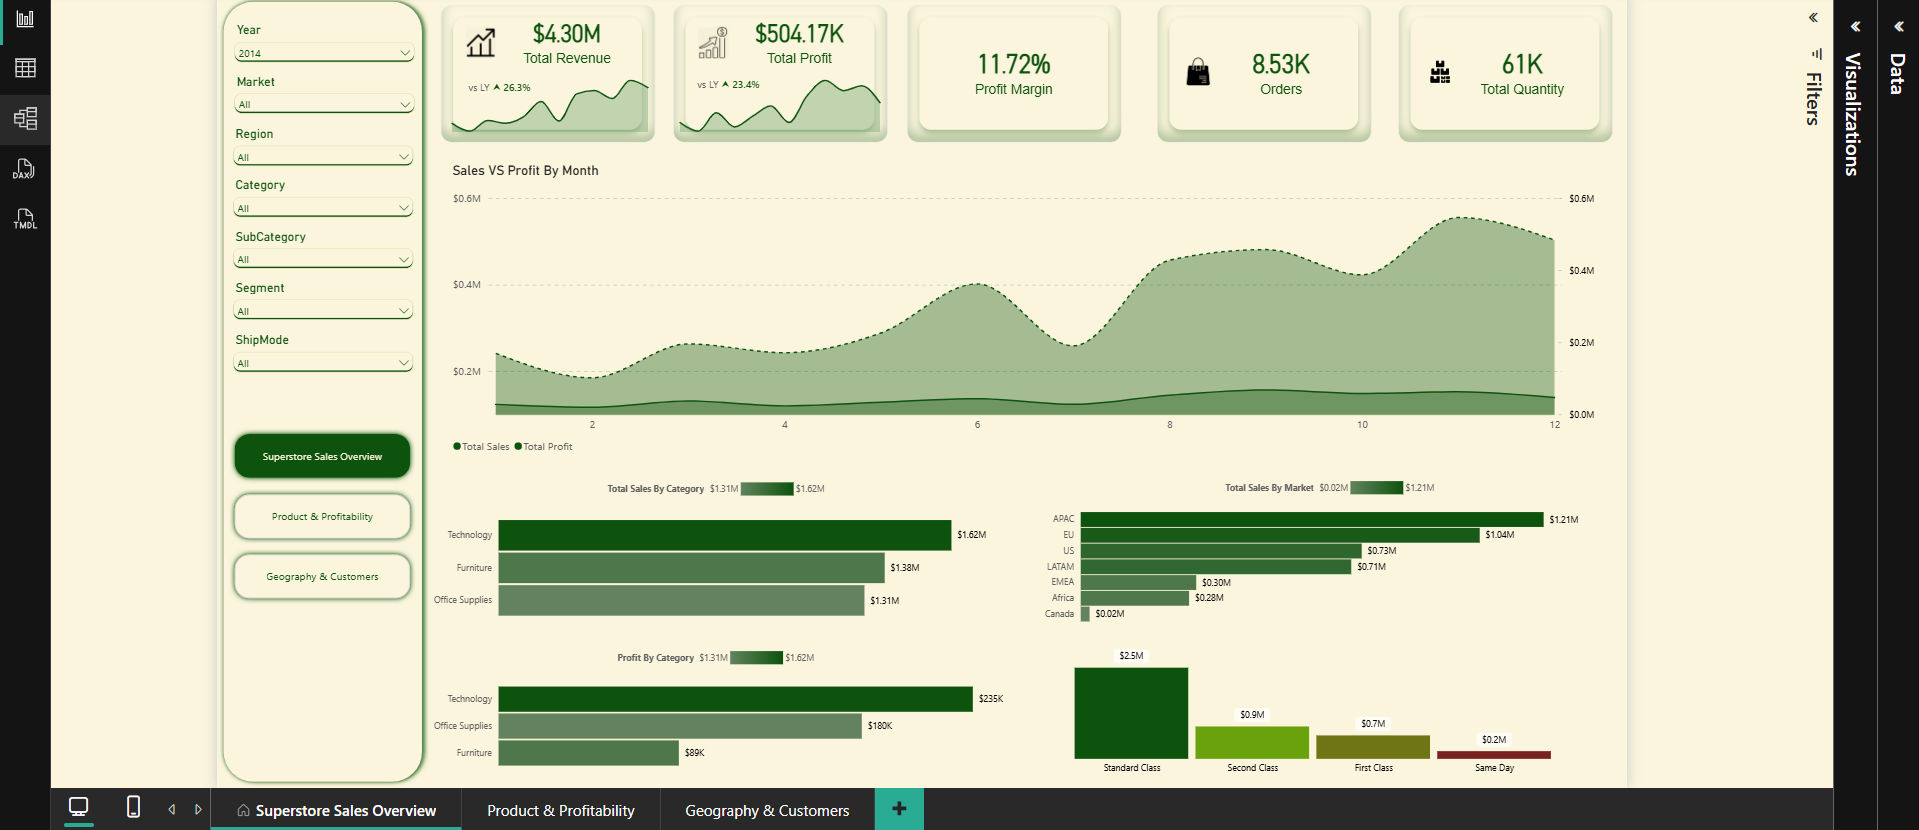

What the dashboard file says about the page in this screenshot:
{"tool":"powerbi","page":{"name":"Superstore Sales Overview","canvas":[1920,1080],"ordinal":0},"visuals":[{"type":"cardVisual","fields":{"Data":["dw FactSales.Total Sales"]},"box":[304.2,14.4,291.8,187.3],"z":0},{"type":"lineChart","fields":{"Y":["dw FactSales.Total Sales"],"Category":["dw DimDate.Month"]},"box":[270,108,325.8,79.2],"z":1000},{"type":"cardVisual","fields":{"Data":["dw FactSales.Total Profit"]},"box":[620.9,14.4,291.8,187.3],"z":2000},{"type":"lineChart","fields":{"Y":["dw FactSales.Total Profit"],"Category":["dw DimDate.Month"]},"box":[595.7,108,316.8,79.2],"z":3000},{"type":"cardVisual","fields":{"Data":["dw FactSales.Profit Margin %"]},"box":[939.5,14.4,291.8,187.3],"z":4000},{"type":"cardVisual","fields":{"Data":["dw FactSales.Orders"]},"box":[1279.6,14.4,291.8,187.3],"z":5000},{"type":"cardVisual","fields":{"Data":["dw FactSales.Total Quantity"]},"box":[1607.2,14.4,291.8,187.3],"z":6000},{"type":"lineChart","title":" Sales VS Profit By Month","fields":{"Category":["dw DimDate.Month"],"Y":["dw FactSales.Total Sales"],"Y2":["dw FactSales.Total Profit"]},"box":[304.2,214.2,1591,430.1],"z":7000},{"type":"barChart","fields":{"Y":["dw FactSales.Total Sales"],"Category":["dw DimGeography.Market"]},"box":[1106.9,644.3,813.5,232.2],"z":8000},{"type":"shape","box":[0,0,288,1079.9],"z":9000},{"type":"slicer","fields":{"Values":["dw DimDate.Year"]},"box":[18,37.8,255.6,70.2],"z":10000},{"type":"slicer","fields":{"Values":["dw DimGeography.Market"]},"box":[18,108,255.6,70.2],"z":11000},{"type":"slicer","fields":{"Values":["dw DimGeography.Region"]},"box":[16.2,178.2,255.6,70.2],"z":12000},{"type":"slicer","fields":{"Values":["dw DimProduct.Category"]},"box":[16.2,248.4,255.6,70.2],"z":13000},{"type":"slicer","fields":{"Values":["dw DimProduct.SubCategory"]},"box":[16.2,318.6,255.6,70.2],"z":14000},{"type":"slicer","fields":{"Values":["dw DimCustomer.Segment"]},"box":[16.2,388.8,255.6,70.2],"z":15000},{"type":"slicer","fields":{"Values":["dw DimShipping.ShipMode"]},"box":[16.2,458.9,255.6,66.6],"z":16000},{"type":"barChart","fields":{"Category":["dw DimProduct.Category"],"Y":["dw FactSales.Total Profit"]},"box":[271.8,876.5,813.5,203.4],"z":17000},{"type":"barChart","fields":{"Y":["dw FactSales.Total Sales"],"Category":["dw DimProduct.Category"]},"box":[271.8,646.1,813.5,232.2],"z":18000},{"type":"lineStackedColumnComboChart","fields":{"Category":["dw DimShipping.ShipMode"],"Y":["dw FactSales.Total Sales"]},"box":[1085.3,863.9,813.5,216],"z":19000},{"type":"pageNavigator","box":[17,590.4,253.5,238.2],"z":20000}]}

Visuals, with their boxes on the page's 1920x1080 design canvas (x1, y1, x2, y2). These are canvas units, not pixel positions in the 1919x830 screenshot, which may show the page scaled, cropped or inside an application window:
cardVisual - dw FactSales.Total Sales: pyautogui.locateOnScreen(304, 14, 596, 202)
lineChart - dw FactSales.Total Sales x dw DimDate.Month: pyautogui.locateOnScreen(270, 108, 596, 187)
cardVisual - dw FactSales.Total Profit: pyautogui.locateOnScreen(621, 14, 913, 202)
lineChart - dw FactSales.Total Profit x dw DimDate.Month: pyautogui.locateOnScreen(596, 108, 912, 187)
cardVisual - dw FactSales.Profit Margin %: pyautogui.locateOnScreen(940, 14, 1231, 202)
cardVisual - dw FactSales.Orders: pyautogui.locateOnScreen(1280, 14, 1571, 202)
cardVisual - dw FactSales.Total Quantity: pyautogui.locateOnScreen(1607, 14, 1899, 202)
" Sales VS Profit By Month" lineChart: pyautogui.locateOnScreen(304, 214, 1895, 644)
barChart - dw FactSales.Total Sales x dw DimGeography.Market: pyautogui.locateOnScreen(1107, 644, 1920, 876)
shape: pyautogui.locateOnScreen(0, 0, 288, 1080)
slicer - dw DimDate.Year: pyautogui.locateOnScreen(18, 38, 274, 108)
slicer - dw DimGeography.Market: pyautogui.locateOnScreen(18, 108, 274, 178)
slicer - dw DimGeography.Region: pyautogui.locateOnScreen(16, 178, 272, 248)
slicer - dw DimProduct.Category: pyautogui.locateOnScreen(16, 248, 272, 319)
slicer - dw DimProduct.SubCategory: pyautogui.locateOnScreen(16, 319, 272, 389)
slicer - dw DimCustomer.Segment: pyautogui.locateOnScreen(16, 389, 272, 459)
slicer - dw DimShipping.ShipMode: pyautogui.locateOnScreen(16, 459, 272, 526)
barChart - dw DimProduct.Category x dw FactSales.Total Profit: pyautogui.locateOnScreen(272, 876, 1085, 1080)
barChart - dw FactSales.Total Sales x dw DimProduct.Category: pyautogui.locateOnScreen(272, 646, 1085, 878)
lineStackedColumnComboChart - dw DimShipping.ShipMode x dw FactSales.Total Sales: pyautogui.locateOnScreen(1085, 864, 1899, 1080)
pageNavigator: pyautogui.locateOnScreen(17, 590, 270, 829)
